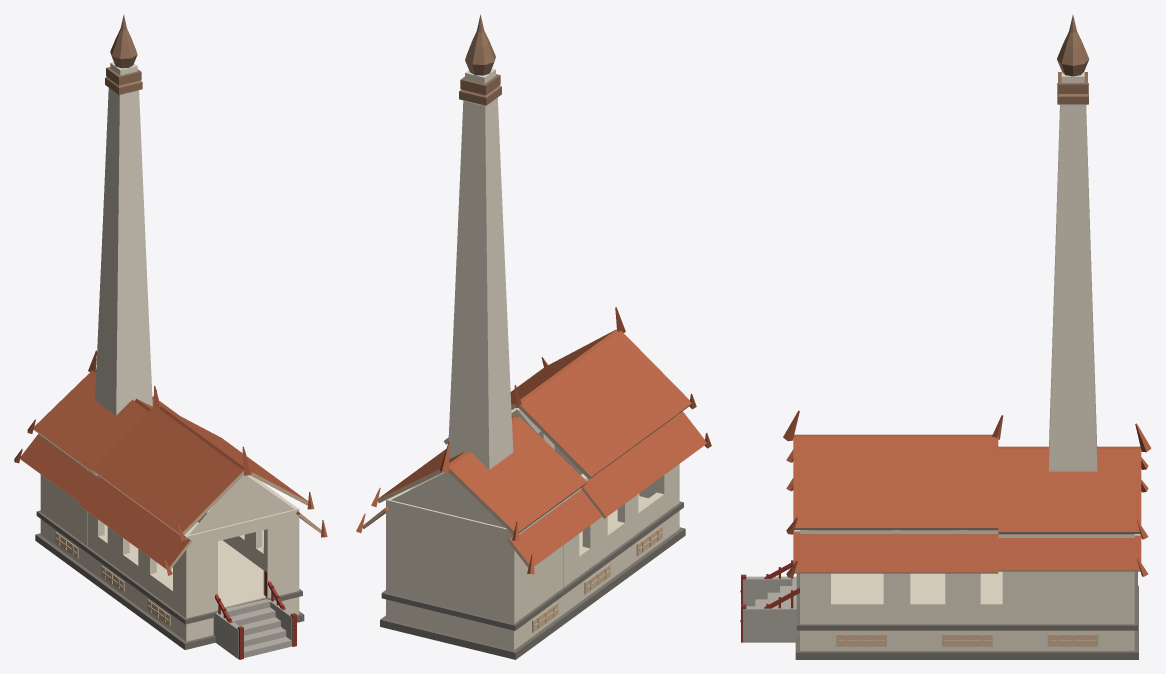
File: Meru_Temple.fbx
3 views of the same model, side by side, from view 1: azimuth 30°, elevation 25°; view 2: azimuth 150°, elevation 25°; view 3: azimuth 270°, elevation 25° (orthographic). The views are drawn at different scales.
Parts seen in each view (by area): view 1: Roof_Structure, Main_Building, Chimney_Tower, Entrance_Stairs, Wall_Decorations, Entrance_Railings; view 2: Roof_Structure, Main_Building, Chimney_Tower, Wall_Decorations; view 3: Roof_Structure, Main_Building, Chimney_Tower, Entrance_Stairs, Wall_Decorations, Entrance_Railings.
Part boxes in pixels (x1=…): Roof_Structure: x1=14, y1=350, x2=327, y2=575; Main_Building: x1=35, y1=435, x2=304, y2=649; Chimney_Tower: x1=95, y1=14, x2=152, y2=415; Entrance_Stairs: x1=213, y1=599, x2=292, y2=659; Wall_Decorations: x1=55, y1=532, x2=170, y2=626; Entrance_Railings: x1=215, y1=571, x2=296, y2=659; Roof_Structure: x1=356, y1=307, x2=711, y2=574; Main_Building: x1=380, y1=408, x2=685, y2=659; Chimney_Tower: x1=448, y1=14, x2=513, y2=469; Wall_Decorations: x1=532, y1=526, x2=662, y2=632; Roof_Structure: x1=783, y1=410, x2=1151, y2=577; Main_Building: x1=795, y1=530, x2=1138, y2=659; Chimney_Tower: x1=1048, y1=14, x2=1097, y2=471; Entrance_Stairs: x1=743, y1=576, x2=799, y2=642; Wall_Decorations: x1=836, y1=634, x2=1098, y2=646; Entrance_Railings: x1=740, y1=560, x2=799, y2=642.
Bounding box in the file's own units: 480 × 1535 × 934.
